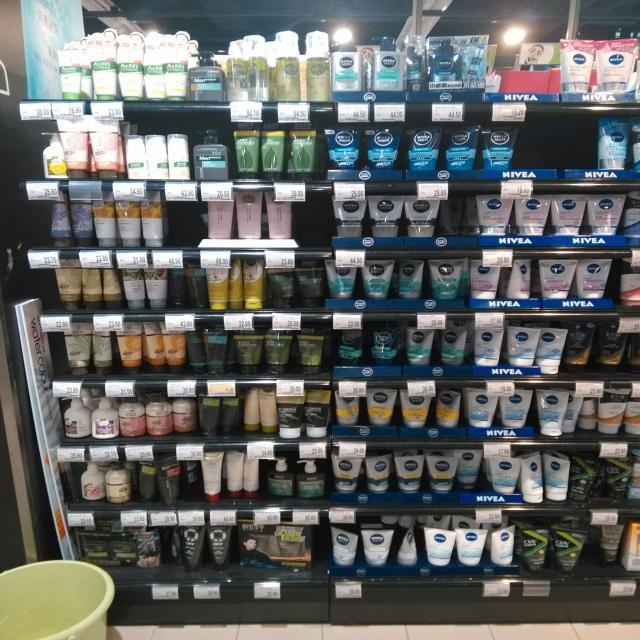void: (489, 25, 526, 117), (19, 43, 53, 120), (524, 30, 556, 104), (557, 112, 590, 182), (172, 186, 203, 257), (520, 112, 552, 180), (299, 188, 326, 254)
